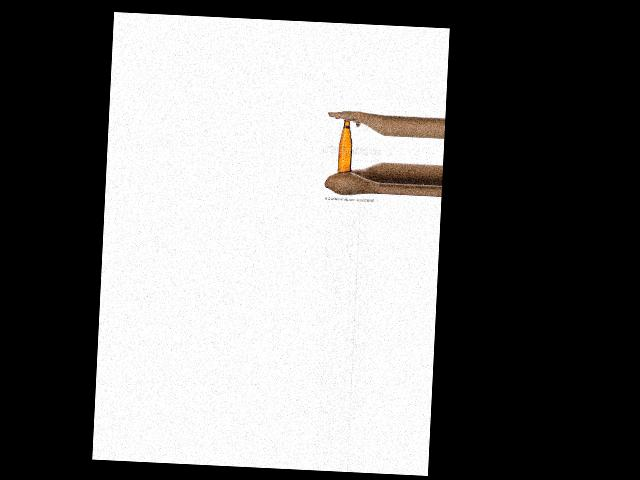beer: (337, 118, 354, 172)
